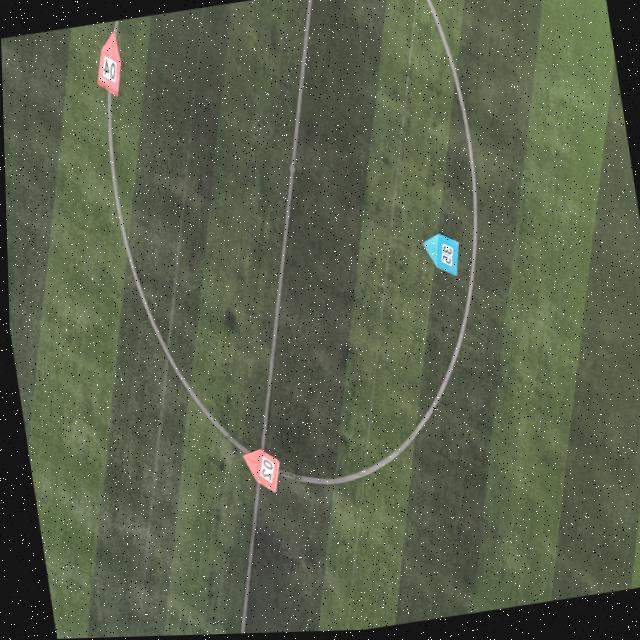board: (238, 447, 277, 493), (417, 235, 457, 279), (95, 30, 120, 96)
